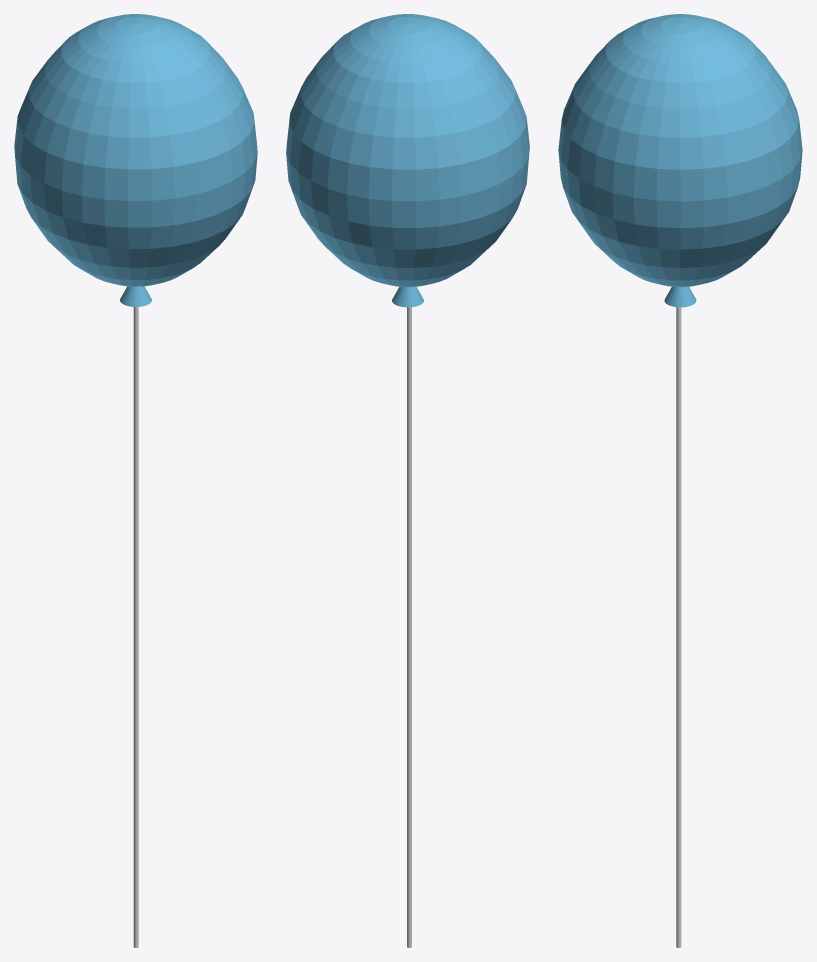
File: ballonblauw.dae
3 renders of one model, left to right at view 1: azimuth 30°, elevation 25°; view 2: azimuth 150°, elevation 25°; view 3: azimuth 270°, elevation 25°, orthographic.
Parts seen in each view (by area): view 1: Sphere, Cylinder, Cone; view 2: Sphere, Cylinder, Cone; view 3: Sphere, Cylinder, Cone.
Boxes of the visible parts, x1,y1,x2,y2 form: Sphere: (14,14,257,286); Cylinder: (133,307,138,947); Cone: (120,286,151,306); Sphere: (286,14,529,287); Cylinder: (407,307,411,947); Cone: (392,286,423,307); Sphere: (558,14,802,287); Cylinder: (676,307,681,947); Cone: (664,286,696,307).
Size of the model in its own units: 2 by 2 by 8.35.
